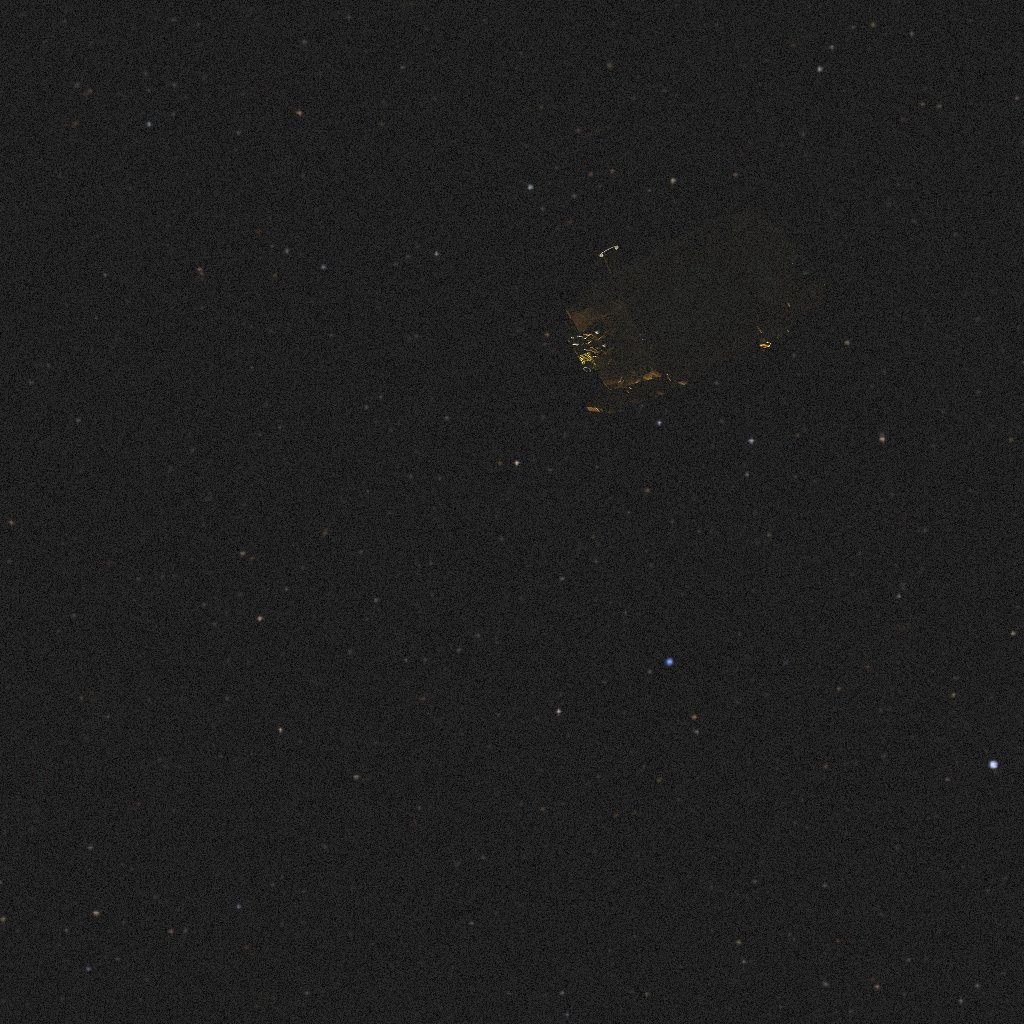lisa_pathfinder: (565, 209, 827, 413)
